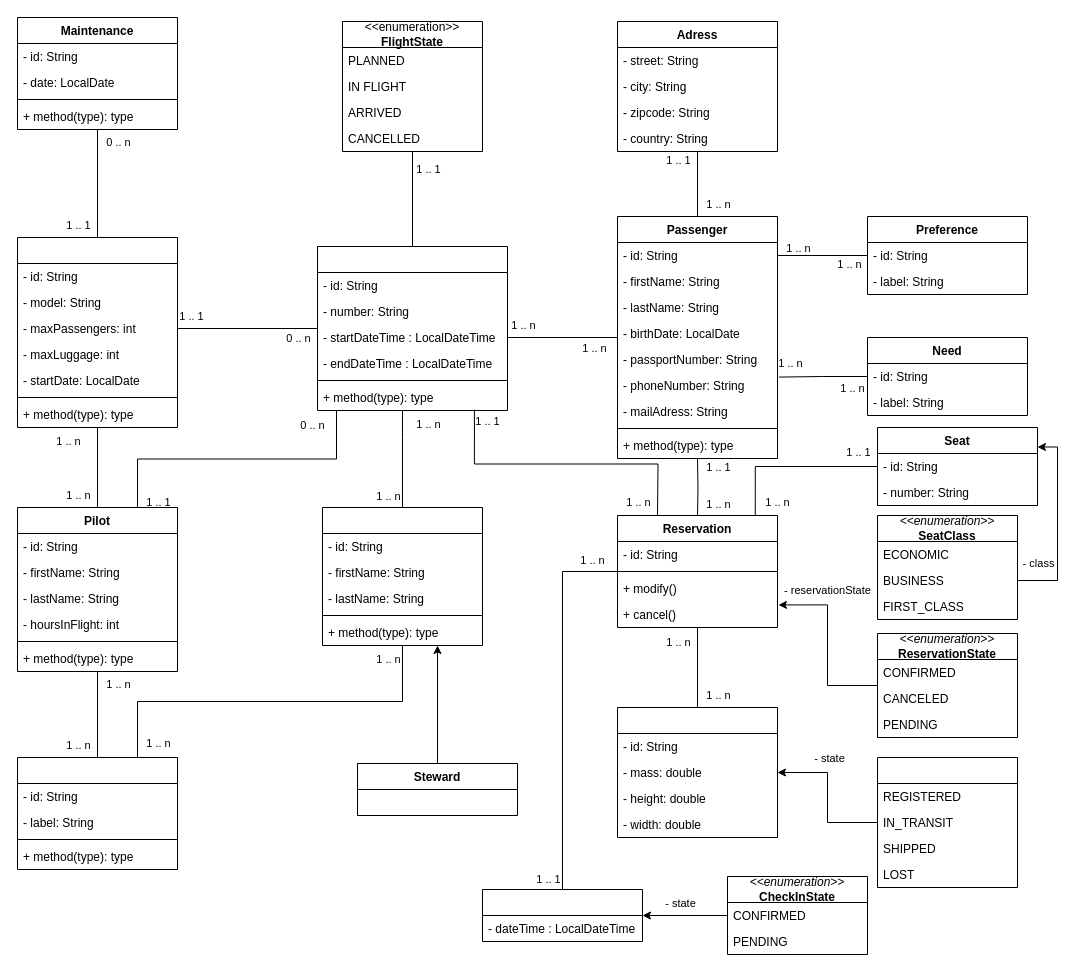
The diagram is 1083 pixels wide and 975 high, and some of its shapes have lost their labels. The shapes that lost their labels are listed below. From the top down, each one's box as (x1, y1, x2, y2) in pixels, then its label:
(16, 236, 178, 428): Airplane
(316, 246, 508, 410): Flight
(322, 506, 482, 646): CrewMember
(616, 706, 778, 838): Luggage
(16, 756, 178, 870): Licence
(876, 756, 1018, 888): <<enumeration>> LuggageState
(482, 888, 642, 942): CheckIn
